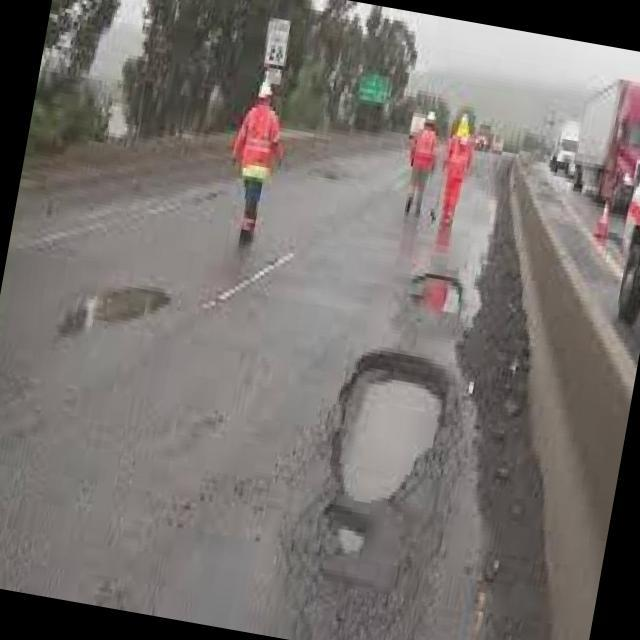Burst: (326, 355, 446, 555), (80, 287, 168, 330), (409, 273, 458, 321)
